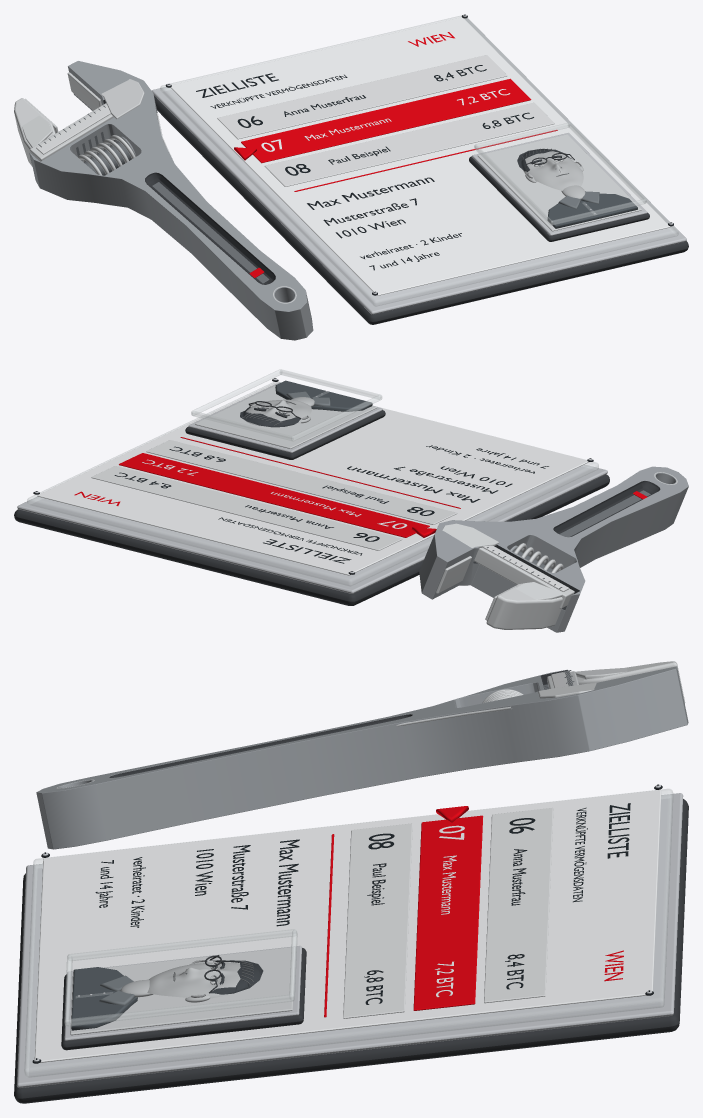
Rendered from ranked-portrait.glb.
3 renders of one model, top to bottom at view 1: azimuth 30°, elevation 25°; view 2: azimuth 150°, elevation 25°; view 3: azimuth 270°, elevation 25°, orthographic. The views are drawn at different scales.
Parts seen in each view (by area): view 1: Target list anti-glare reading face, One-piece asymmetric fixed jaw and forged handle, Target list precision frame, Target list optical rim, Ranked list row.001, Ranked list row, Ranked list selected row, Target list graphite body, Passport portrait matte photo plane, Max collared shirt shoulders, Max distinct sculpted human face, Passport portrait titanium rim (+13 smaller); view 2: Target list anti-glare reading face, One-piece asymmetric fixed jaw and forged handle, Target list precision frame, Target list graphite body, Target list optical rim, Ranked list row, Ranked list row.001, Ranked list selected row, Passport portrait matte photo plane, Separate forged moving jaw, Passport portrait graphite inset, Movable jaw rack slide (+15 smaller); view 3: Target list anti-glare reading face, One-piece asymmetric fixed jaw and forged handle, Target list precision frame, Target list optical rim, Target list graphite body, Ranked list row, Ranked list row.001, Ranked list selected row, Passport portrait matte photo plane, Passport portrait graphite inset, Max collared shirt shoulders, Passport portrait titanium rim (+7 smaller).
Boxes of the visible parts, box(x1,y1,x2,y2) form: Target list anti-glare reading face: box(170, 17, 669, 295); One-piece asymmetric fixed jaw and forged handle: box(29, 61, 313, 340); Target list precision frame: box(151, 18, 686, 314); Target list optical rim: box(160, 15, 678, 306); Ranked list row.001: box(264, 102, 554, 186); Ranked list row: box(217, 55, 507, 139); Ranked list selected row: box(241, 78, 531, 163); Target list graphite body: box(154, 95, 688, 324); Passport portrait matte photo plane: box(477, 134, 641, 231); Max collared shirt shoulders: box(547, 193, 637, 228); Max distinct sculpted human face: box(523, 151, 583, 190); Passport portrait titanium rim: box(472, 133, 647, 235); Target list anti-glare reading face: box(37, 381, 588, 575); One-piece asymmetric fixed jaw and forged handle: box(419, 466, 688, 632); Target list precision frame: box(17, 464, 607, 593); Target list graphite body: box(14, 474, 609, 605); Target list optical rim: box(27, 382, 598, 586); Ranked list row: box(91, 466, 402, 550); Ranked list row.001: box(146, 440, 457, 524); Ranked list selected row: box(119, 453, 429, 537); Passport portrait matte photo plane: box(195, 385, 376, 448); Separate forged moving jaw: box(486, 583, 562, 629); Passport portrait graphite inset: box(185, 410, 385, 459); Movable jaw rack slide: box(474, 547, 574, 608); Target list anti-glare reading face: box(34, 790, 661, 1062); One-piece asymmetric fixed jaw and forged handle: box(36, 666, 688, 849); Target list precision frame: box(16, 793, 683, 1087); Target list optical rim: box(24, 789, 672, 1077); Target list graphite body: box(14, 799, 688, 1103); Ranked list row: box(484, 808, 553, 1003); Ranked list row.001: box(343, 823, 412, 1018); Ranked list selected row: box(413, 815, 483, 1010); Passport portrait matte photo plane: box(70, 947, 295, 1035); Passport portrait graphite inset: box(61, 948, 306, 1050); Max collared shirt shoulders: box(71, 967, 137, 1030); Passport portrait titanium rim: box(64, 946, 301, 1040).
Size of the model in its own units: 7.28 by 1.78 by 6.18.
3 materials, 3 textured.
